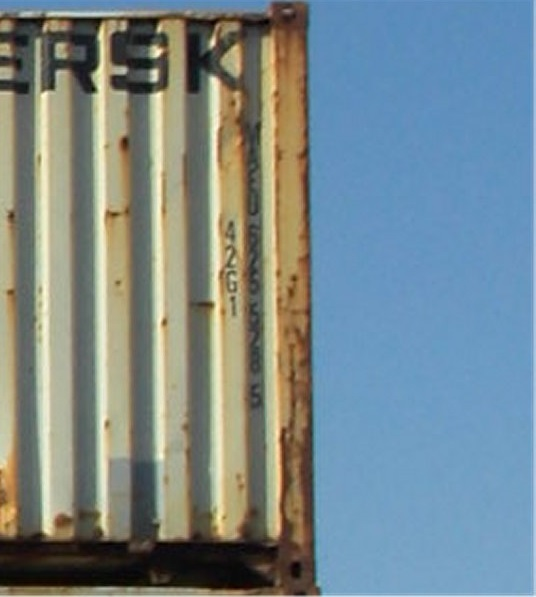container_no_door: (8, 7, 314, 583)
